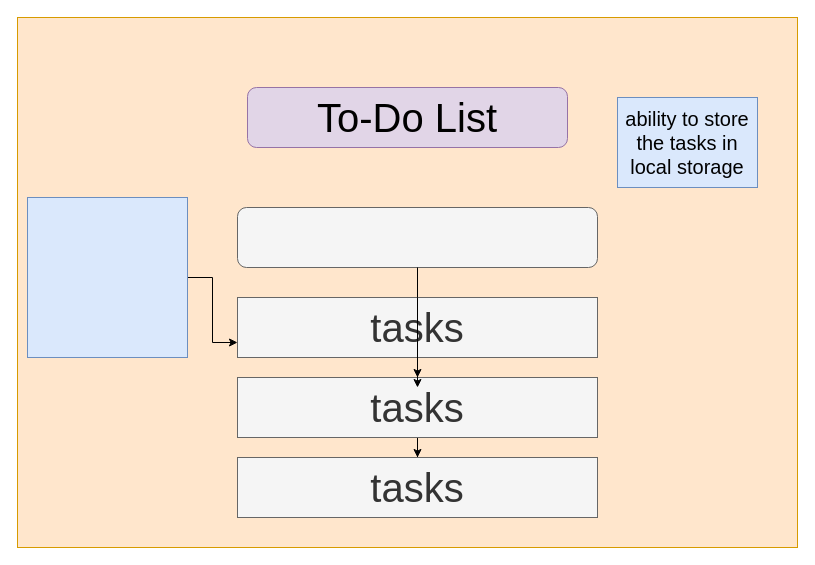
Some shapes in this 815 by 565 pixel diagram are drawn without their labels. Each missing label, with the centre of its shape:
"ability to remove and edit the entered tasks" belongs at (x=107, y=277).
"Entering tasks:" belongs at (x=417, y=237).
